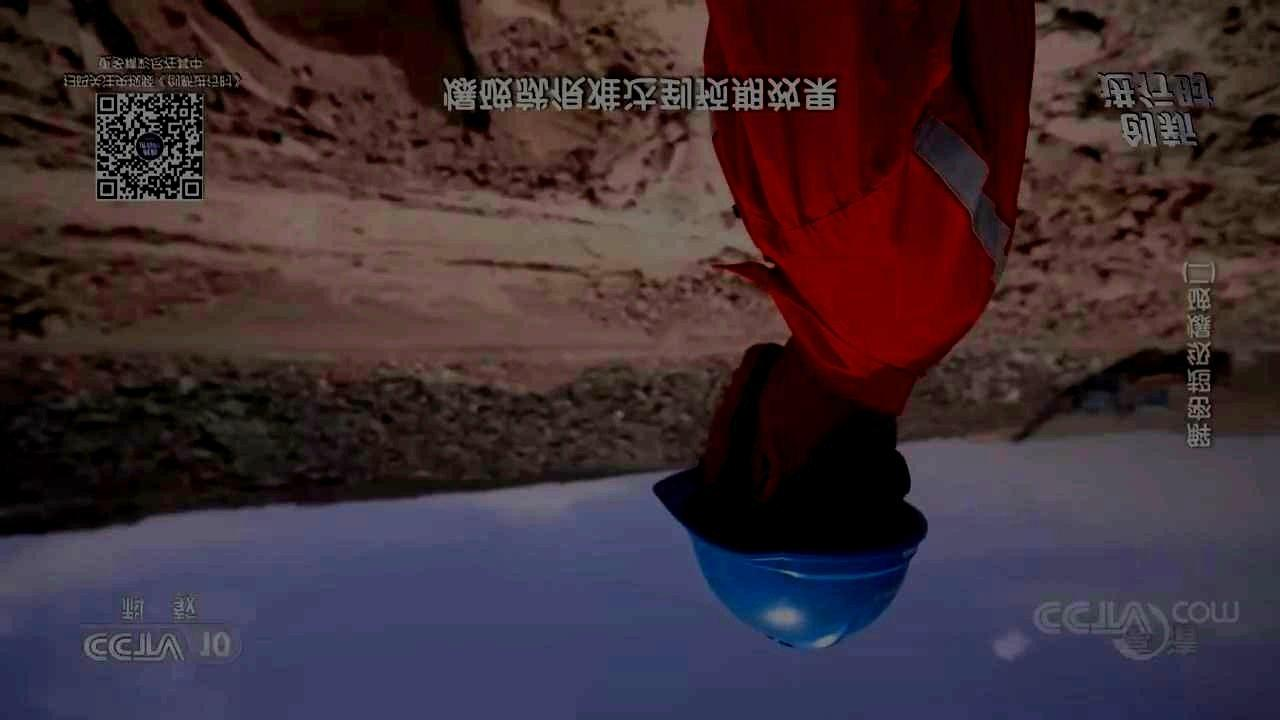helmet: (650, 341, 929, 653)
